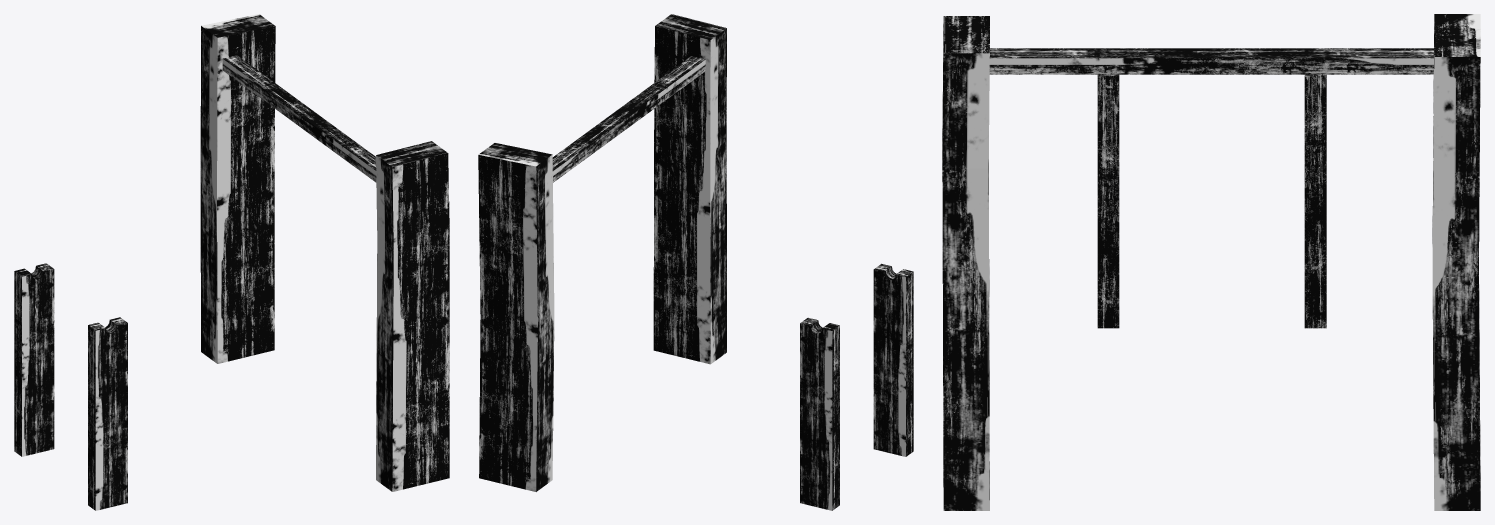
Rendered from SM_water_wheel_part_08.fbx.
3 renders of one model, left to right at view 1: azimuth 30°, elevation 25°; view 2: azimuth 150°, elevation 25°; view 3: azimuth 270°, elevation 25°, orthographic. The views are drawn at different scales.
Visible parts, largest first — view 1: SM_water_wheel_part_08_LOD0; view 2: SM_water_wheel_part_08_LOD0; view 3: SM_water_wheel_part_08_LOD0.
Boxes of the visible parts, left/top/right/bottom form: SM_water_wheel_part_08_LOD0: left=14, top=14, right=449, bottom=510; SM_water_wheel_part_08_LOD0: left=478, top=14, right=913, bottom=510; SM_water_wheel_part_08_LOD0: left=942, top=14, right=1480, bottom=510.
Size of the model in its own units: 262 by 291 by 273.
Materials: 1 (1 with a texture image).
